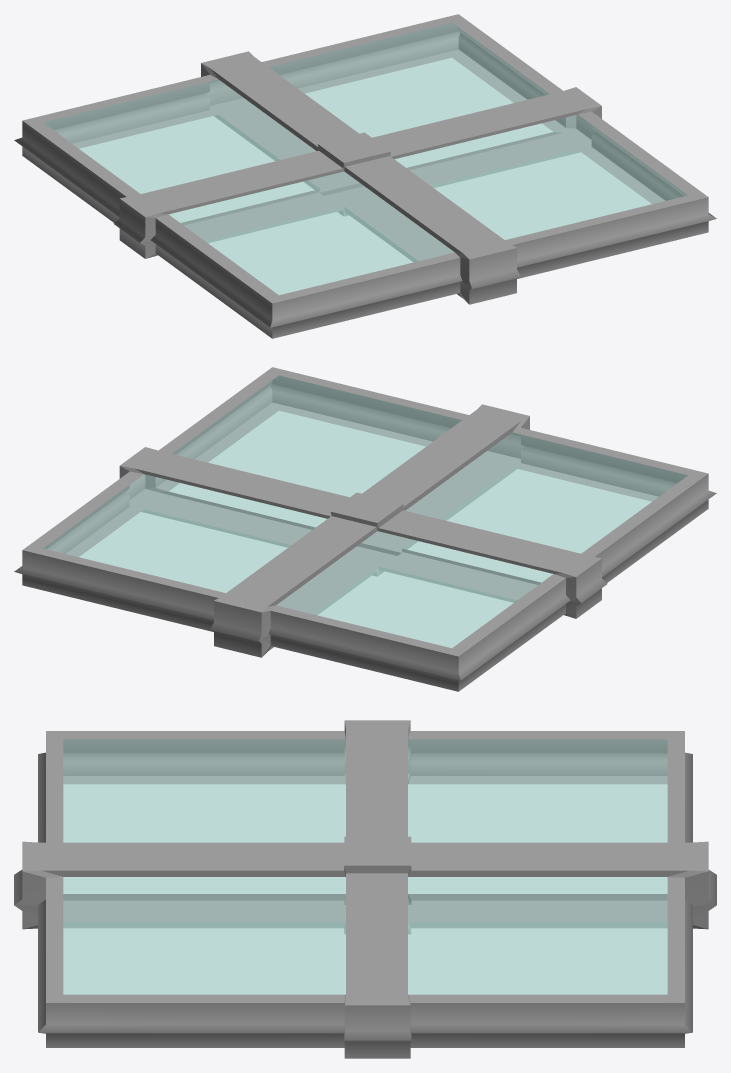
The model's file is Platform.fbx.
The picture shows the model from 3 angles, top to bottom: view 1: azimuth 30°, elevation 25°; view 2: azimuth 150°, elevation 25°; view 3: azimuth 270°, elevation 25°; orthographic projection. The views are drawn at different scales.
Parts seen in each view (by area): view 1: pCube95; view 2: pCube95; view 3: pCube95.
Boxes of the visible parts, bbox=[...] form: pCube95: bbox=[14, 14, 716, 338]; pCube95: bbox=[14, 367, 716, 691]; pCube95: bbox=[14, 720, 716, 1058].
Size of the model in its own units: 2.75 by 0.3017 by 2.8.
